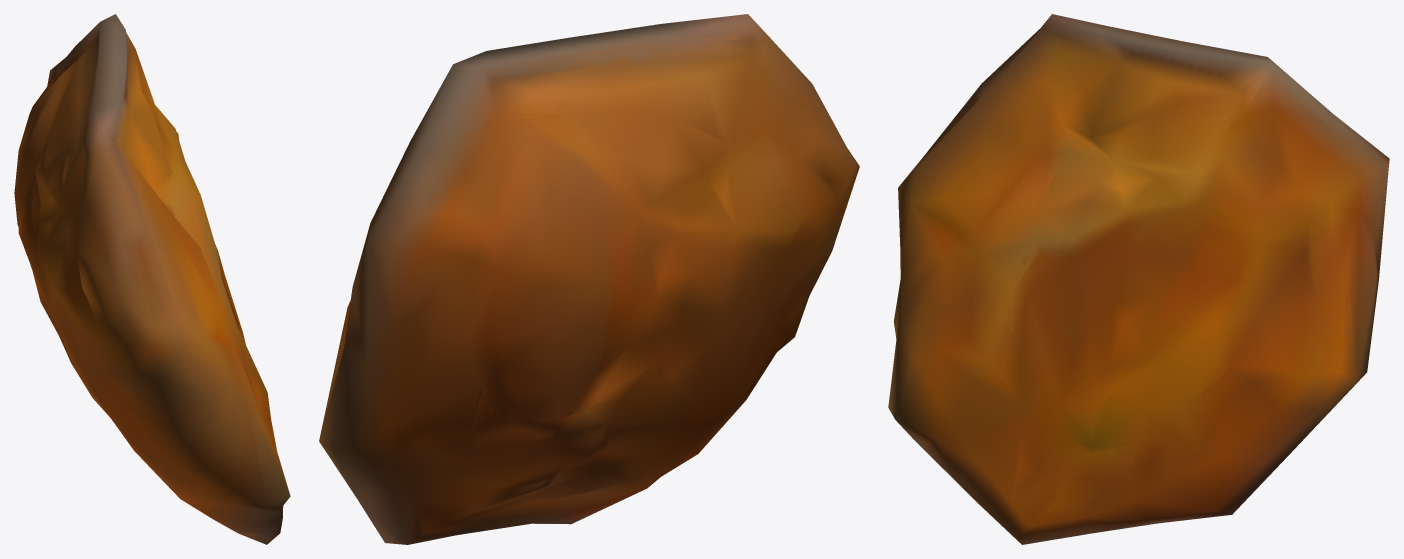
Rendered from gem_bulwark.glb.
3 renders of one model, left to right at view 1: azimuth 30°, elevation 25°; view 2: azimuth 150°, elevation 25°; view 3: azimuth 270°, elevation 25°, orthographic. The views are drawn at different scales.
Visible parts, largest first — view 1: model; view 2: model; view 3: model.
Part boxes in pixels (bbox=[...]): model: bbox=[14, 14, 290, 544]; model: bbox=[319, 14, 859, 544]; model: bbox=[888, 14, 1389, 544].
Bounding box in the file's own units: 0.2193 × 0.3985 × 0.3892.
1 material, 1 textured.
